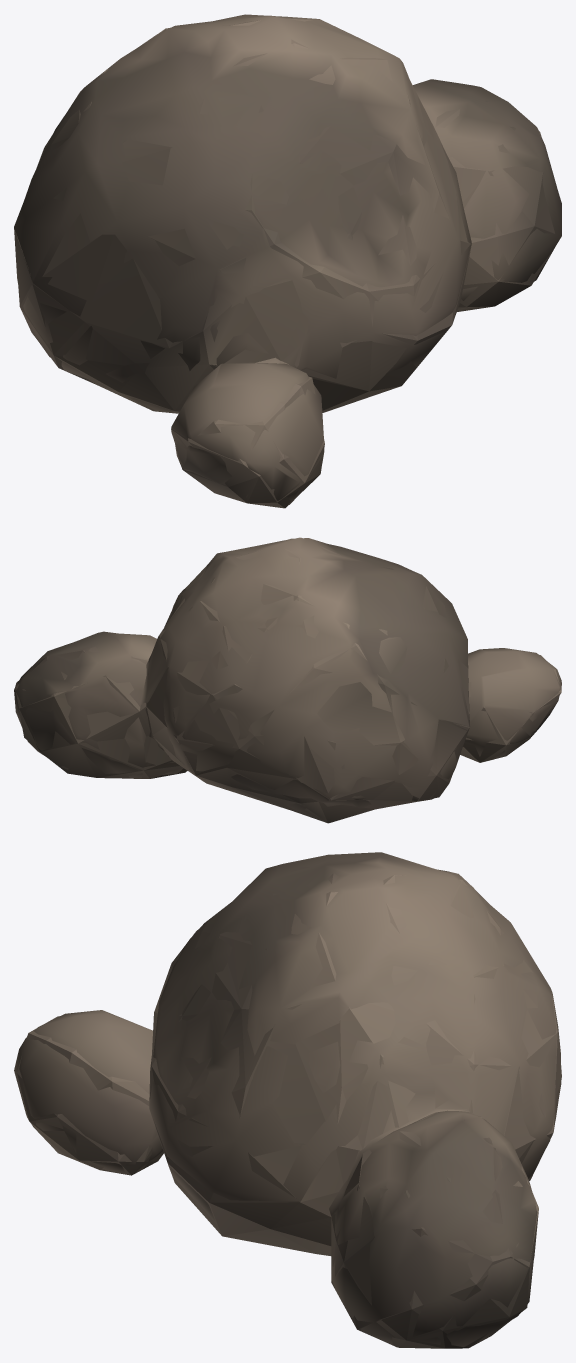
File: rock_cluster.glb
3 views of the same model, one above another, from view 1: azimuth 30°, elevation 25°; view 2: azimuth 150°, elevation 25°; view 3: azimuth 270°, elevation 25° (orthographic). The views are drawn at different scales.
Visible parts, largest first — view 1: rock_cluster_LOD1, rock_cluster_LOD2; view 2: rock_cluster_LOD1, rock_cluster_LOD2; view 3: rock_cluster_LOD1, rock_cluster_LOD2.
Part boxes in pixels (box(x1,y1,x2,y2)): rock_cluster_LOD1: box(14, 14, 561, 504); rock_cluster_LOD2: box(14, 18, 561, 508); rock_cluster_LOD1: box(14, 538, 561, 821); rock_cluster_LOD2: box(15, 537, 561, 823); rock_cluster_LOD1: box(14, 852, 561, 1347); rock_cluster_LOD2: box(17, 866, 561, 1348).
Bounding box in the file's own units: 0.8628 × 0.4978 × 0.7226.
